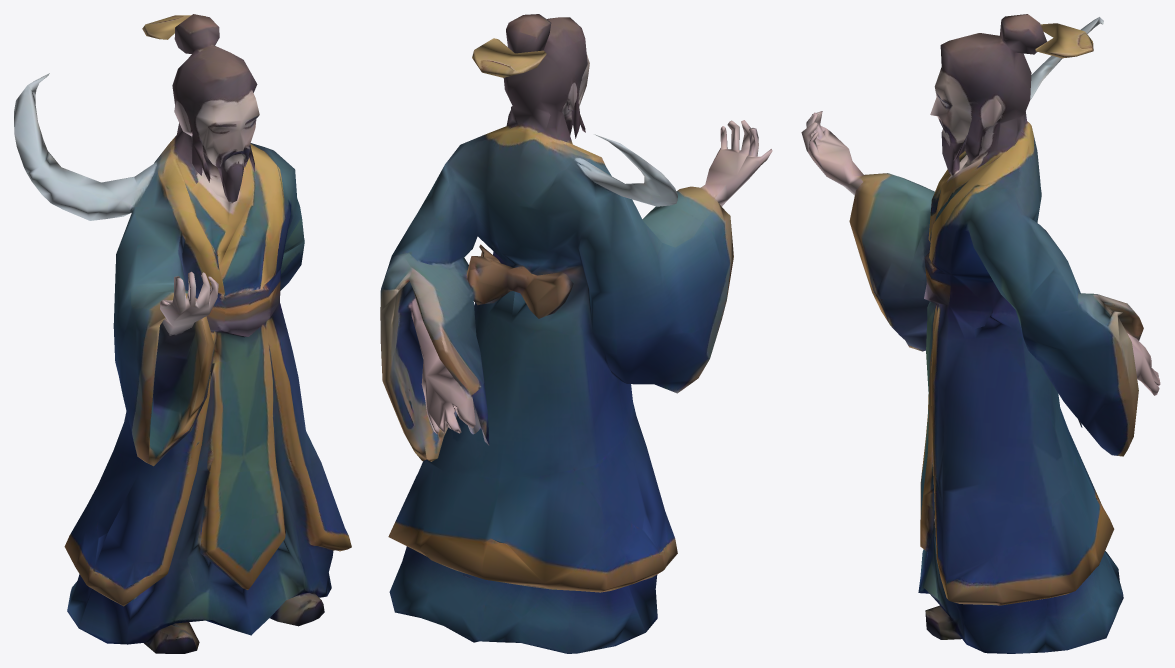
Rendered from ss_yuede.glb.
3 renders of one model, left to right at view 1: azimuth 30°, elevation 25°; view 2: azimuth 150°, elevation 25°; view 3: azimuth 270°, elevation 25°, orthographic.
Parts seen in each view (by area): view 1: tripo_node_6276a6b1-c66a-4159-8e02-463e6d33dfb6; view 2: tripo_node_6276a6b1-c66a-4159-8e02-463e6d33dfb6; view 3: tripo_node_6276a6b1-c66a-4159-8e02-463e6d33dfb6.
Boxes of the visible parts, x1,y1,x2,y2 form: tripo_node_6276a6b1-c66a-4159-8e02-463e6d33dfb6: (14, 14, 351, 653); tripo_node_6276a6b1-c66a-4159-8e02-463e6d33dfb6: (380, 14, 772, 653); tripo_node_6276a6b1-c66a-4159-8e02-463e6d33dfb6: (801, 14, 1160, 653).
Size of the model in its own units: 0.512 by 0.9987 by 0.5572.
Materials: 1 (1 with a texture image).
